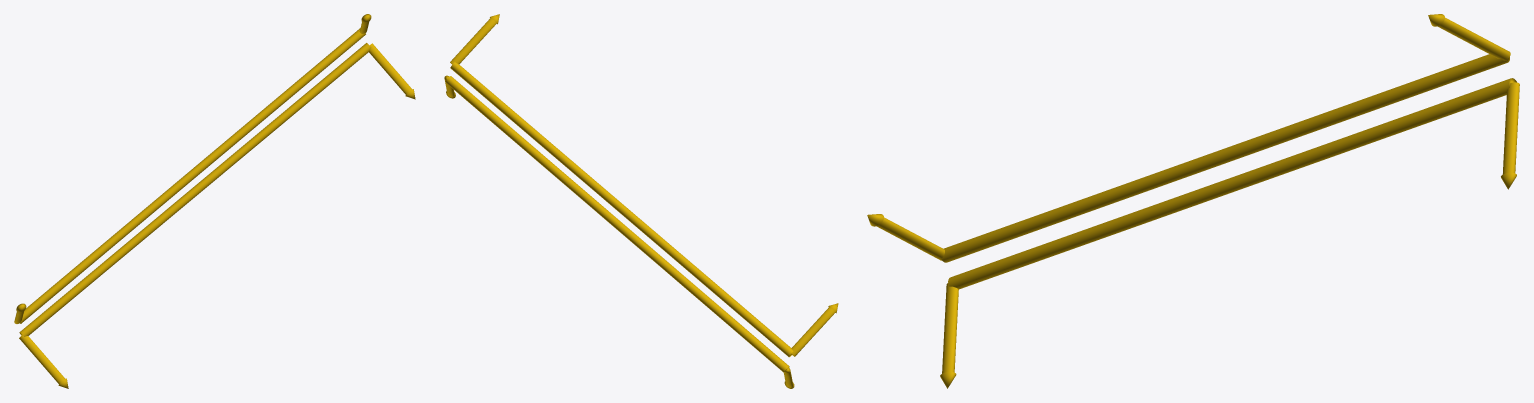
Rendered from trajectories_mesh.obj.
3 views of the same model, side by side, from view 1: azimuth 30°, elevation 25°; view 2: azimuth 150°, elevation 25°; view 3: azimuth 330°, elevation 25° (orthographic). The views are drawn at different scales.
Size of the model in its own units: 0.4188 by 0.3056 by 0.0544.
